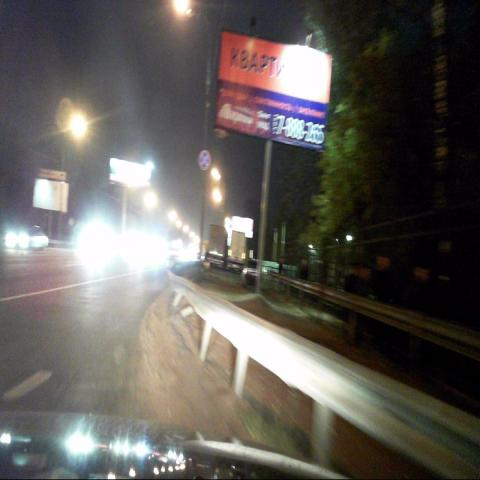3_27: (199, 150, 210, 171)
